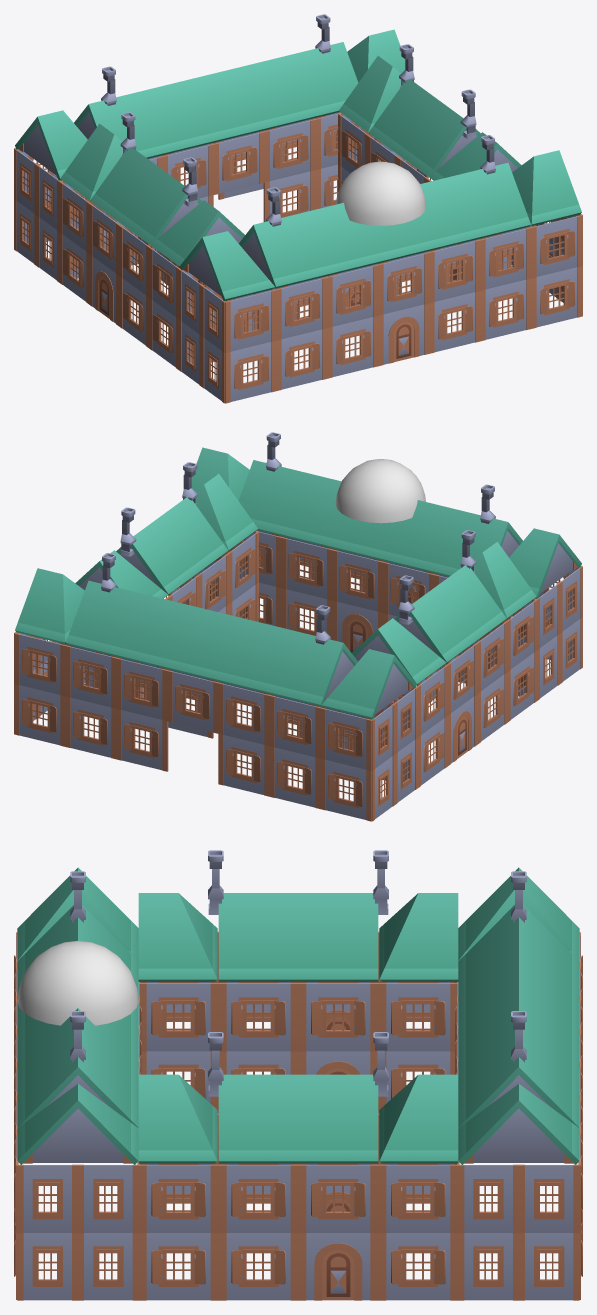
The model's file is london_bld_university.glb.
3 views of the same model, one above another, from view 1: azimuth 30°, elevation 25°; view 2: azimuth 150°, elevation 25°; view 3: azimuth 270°, elevation 25° (orthographic). The views are drawn at different scales.
Parts seen in each view (by area): view 1: wall-window-shutters (×36), roof-gable (×14), roof-gable-end (×8), dome, wall-door (×2), door; view 2: wall-window-shutters (×38), roof-gable (×14), roof-gable-end (×8), dome, wall-door (×2), door; view 3: wall-window-shutters (×22), roof-gable (×13), roof-gable-end (×8), dome, wall-door (×2), door.
Part boxes in pixels (x1,y1,x2,y2): wall-window-shutters (×36): (14,113,582,403); roof-gable (×14): (74,42,530,288); roof-gable-end (×8): (15,29,581,300); dome: (336,161,426,225); wall-door (×2): (89,254,429,365); door: (394,322,413,362); wall-window-shutters (×38): (14,531,582,821); roof-gable (×14): (66,460,522,706); roof-gable-end (×8): (15,447,581,718); dome: (335,459,425,523); wall-door (×2): (332,601,477,765); door: (347,619,367,652); wall-window-shutters (×22): (17,983,579,1300); roof-gable (×13): (17,893,579,1163); roof-gable-end (×8): (17,867,579,1164); dome: (17,940,138,1025); wall-door (×2): (298,1051,378,1300); door: (322,1250,354,1300).
Bounding box in the file's own units: 20.25 × 9.58 × 20.65.
7 materials, 6 textured.
